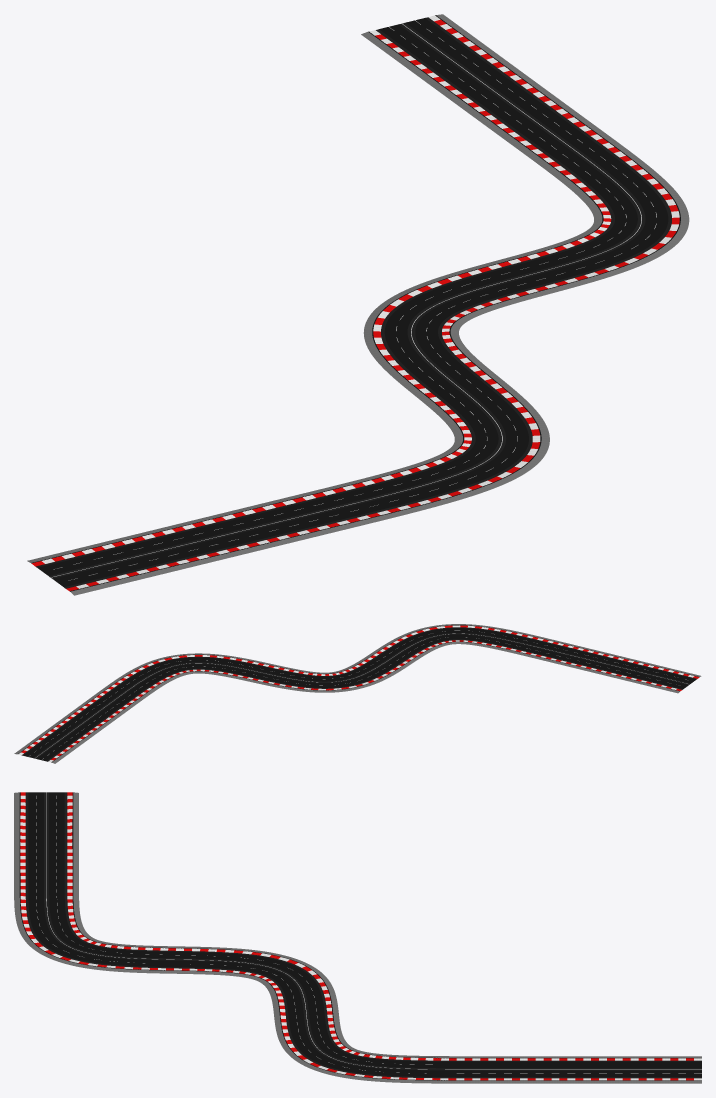
File: S0.3c3h0-1-chikA.glb
The picture shows the model from 3 angles, top to bottom: view 1: azimuth 30°, elevation 25°; view 2: azimuth 150°, elevation 25°; view 3: azimuth 270°, elevation 25°; orthographic projection. The views are drawn at different scales.
Visible parts, largest first — view 1: Grid.001; view 2: Grid.001; view 3: Grid.001.
Boxes of the visible parts, <box> form: Grid.001: <box>27,14,689,595</box>; Grid.001: <box>14,624,701,763</box>; Grid.001: <box>14,792,701,1083</box>.
Size of the model in its own units: 265 by 0.31 by 265.
